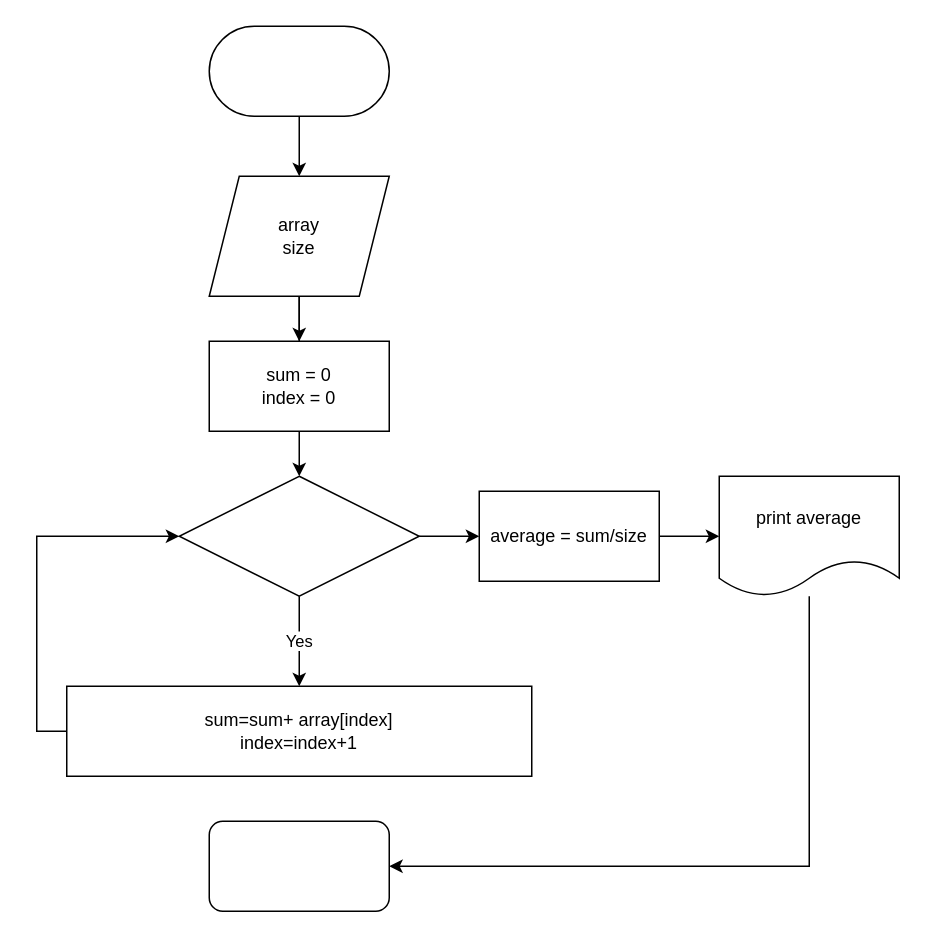
Image size: 926x938. Some labels were removed from this diagram. Here are the shapes that lost their labels. From the top down, the centre of each, then its label:
At pixel 298 70: "Start".
At pixel 298 535: "index<size".
At pixel 298 865: "end".
